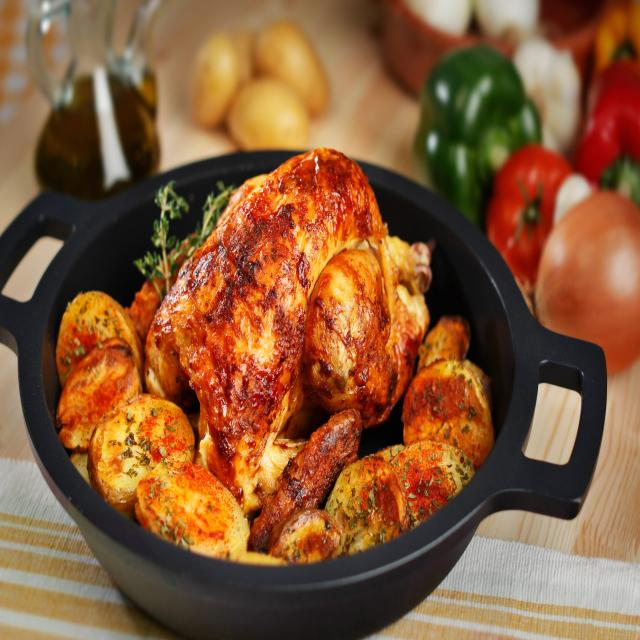pollo: (142, 136, 440, 520)
